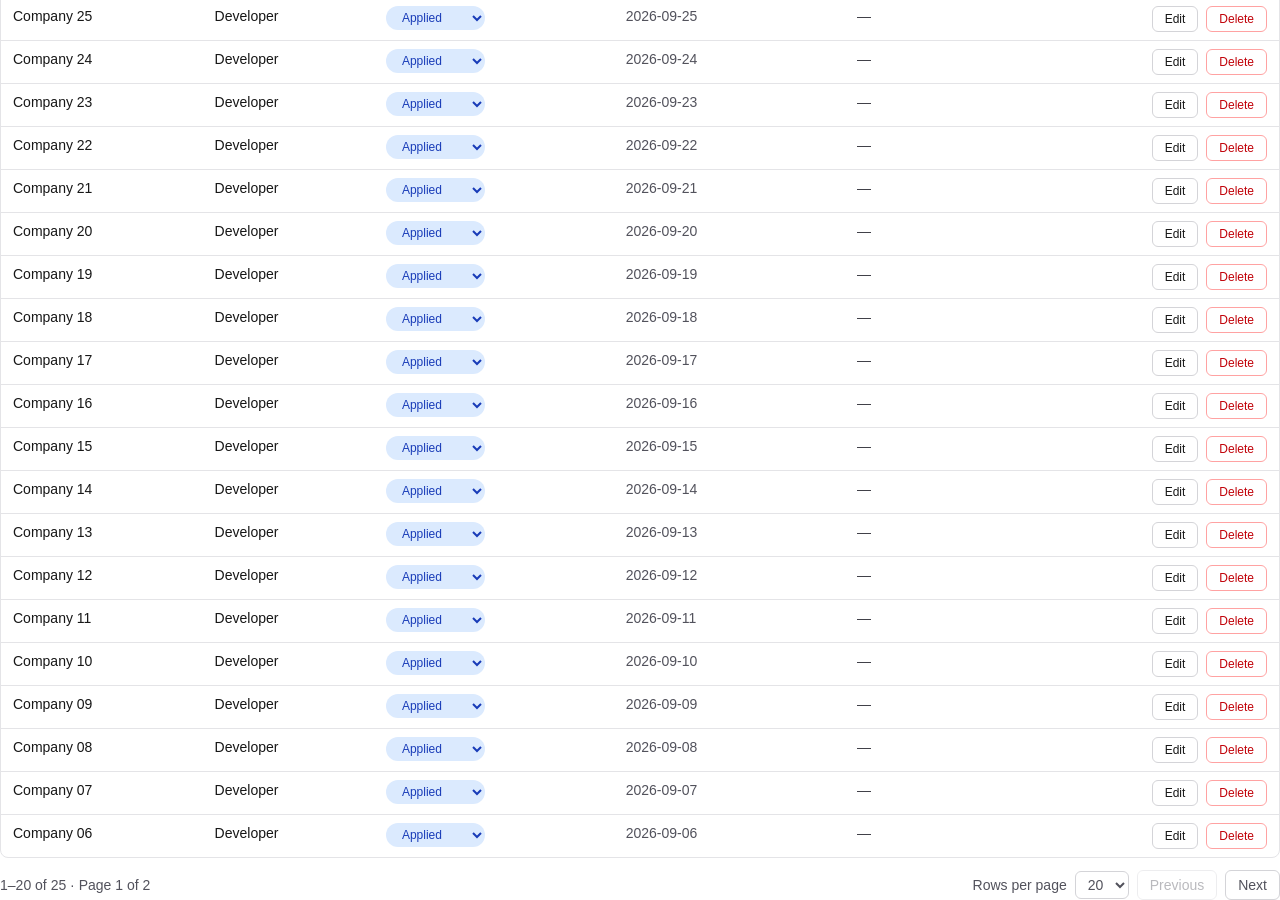
Test case: ApplicationTable pagination › shows 20 rows per page
(page scrolled)
Check: the text "1–20 of 25 · Page 1 of 2" is shown, box [0, 875, 150, 895]
Check: the button "Previous" is disabled, box [1137, 870, 1217, 899]
Click the button "Next". click: click(1253, 885)
box: [1225, 870, 1279, 899]
(page scrolled)
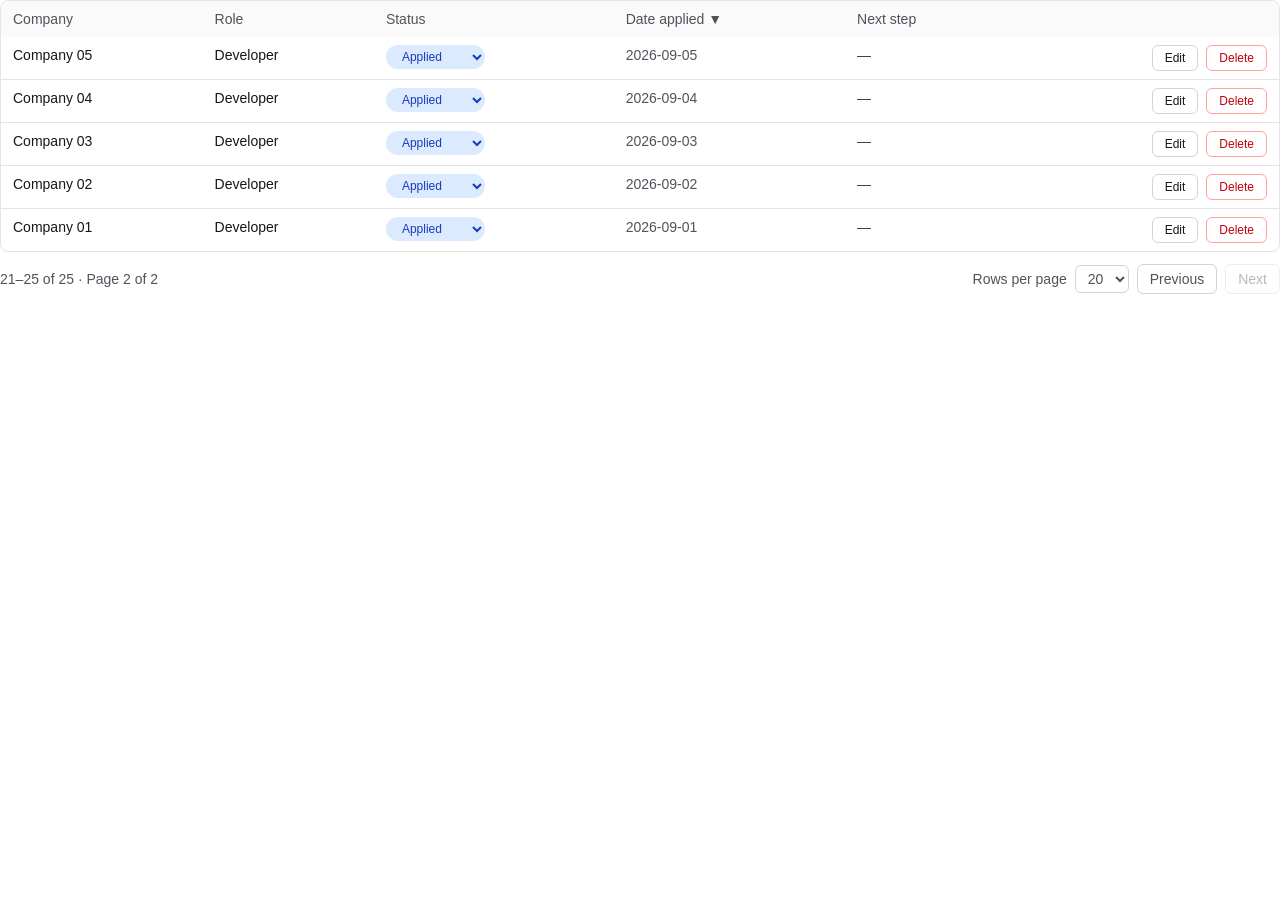
Check: the text "21–25 of 25 · Page 2 of 2" is shown, box [0, 269, 158, 289]
Check: the button "Next" is disabled, box [1225, 264, 1279, 294]
